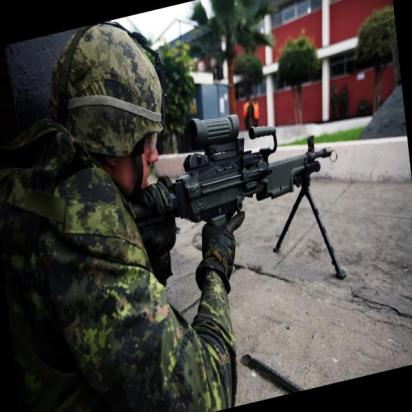Gun: (114, 92, 342, 258)
